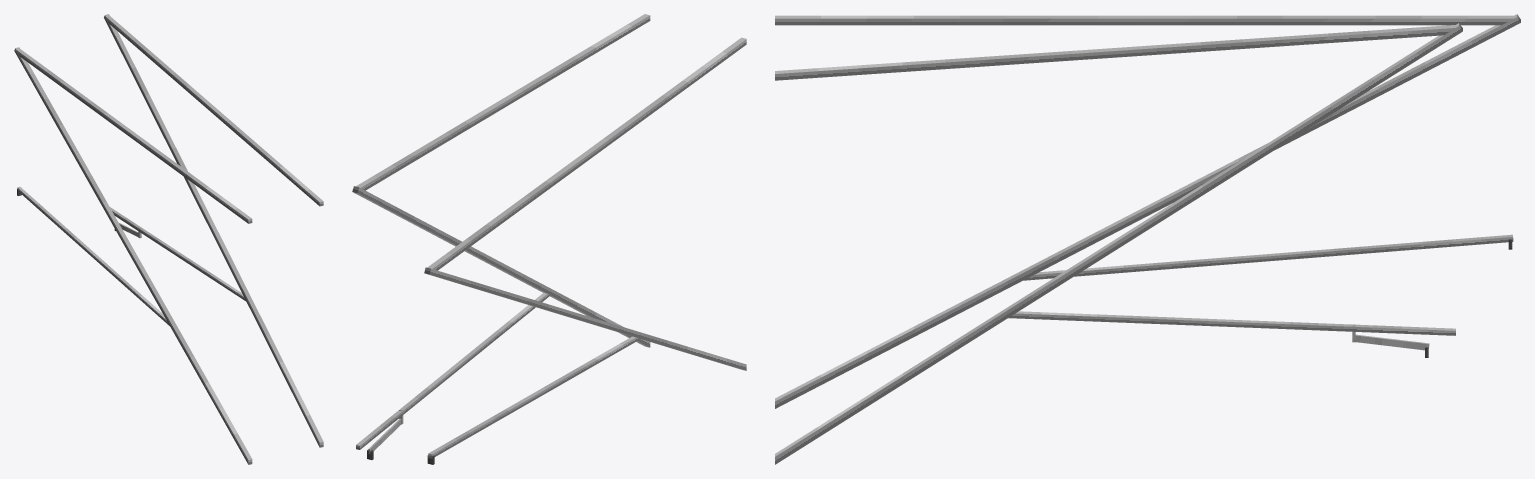
File: cantilever_inner_5px.obj
3 views of the same model, side by side, from view 1: azimuth 30°, elevation 25°; view 2: azimuth 150°, elevation 25°; view 3: azimuth 270°, elevation 25° (orthographic). The views are drawn at different scales.
Visible parts, largest first — view 1: 14d6a25c-b2bc-4dab-a3c8-c87c40a5dd63, 790a8d08-345f-4859-b131-12cb4c2bbe46, cbbfd009-4789-4d79-b368-0fd75c1fa5e6, 9c22ef68-3772-46ee-b2bc-19900ec7bce4, 4a245539-725c-43b8-8043-d9b25203d68a, 7b81bfd4-deec-492f-86d9-12cb2b5c4a09; view 2: cbbfd009-4789-4d79-b368-0fd75c1fa5e6, 9c22ef68-3772-46ee-b2bc-19900ec7bce4, 14d6a25c-b2bc-4dab-a3c8-c87c40a5dd63, 790a8d08-345f-4859-b131-12cb4c2bbe46, 4a245539-725c-43b8-8043-d9b25203d68a, 7b81bfd4-deec-492f-86d9-12cb2b5c4a09; view 3: cbbfd009-4789-4d79-b368-0fd75c1fa5e6, 790a8d08-345f-4859-b131-12cb4c2bbe46, 14d6a25c-b2bc-4dab-a3c8-c87c40a5dd63, 9c22ef68-3772-46ee-b2bc-19900ec7bce4, 4a245539-725c-43b8-8043-d9b25203d68a, 7b81bfd4-deec-492f-86d9-12cb2b5c4a09.
Part boxes in pixels (x1,y1,x2,y2): 14d6a25c-b2bc-4dab-a3c8-c87c40a5dd63: (14,47,252,464); 790a8d08-345f-4859-b131-12cb4c2bbe46: (104,14,323,447); cbbfd009-4789-4d79-b368-0fd75c1fa5e6: (16,49,252,223); 9c22ef68-3772-46ee-b2bc-19900ec7bce4: (106,16,323,206); 4a245539-725c-43b8-8043-d9b25203d68a: (17,186,169,325); 7b81bfd4-deec-492f-86d9-12cb2b5c4a09: (110,207,245,300); cbbfd009-4789-4d79-b368-0fd75c1fa5e6: (427,37,746,270); 9c22ef68-3772-46ee-b2bc-19900ec7bce4: (356,14,650,190); 14d6a25c-b2bc-4dab-a3c8-c87c40a5dd63: (424,267,746,370); 790a8d08-345f-4859-b131-12cb4c2bbe46: (352,186,650,347); 4a245539-725c-43b8-8043-d9b25203d68a: (428,336,640,458); 7b81bfd4-deec-492f-86d9-12cb2b5c4a09: (356,293,550,449); cbbfd009-4789-4d79-b368-0fd75c1fa5e6: (775,15,1514,25); 790a8d08-345f-4859-b131-12cb4c2bbe46: (775,23,1462,464); 14d6a25c-b2bc-4dab-a3c8-c87c40a5dd63: (775,14,1520,408); 9c22ef68-3772-46ee-b2bc-19900ec7bce4: (775,25,1455,80); 4a245539-725c-43b8-8043-d9b25203d68a: (1023,234,1513,280); 7b81bfd4-deec-492f-86d9-12cb2b5c4a09: (1008,311,1455,335).
Bounding box in the file's own units: 1.19 × 4.16 × 6.4.
